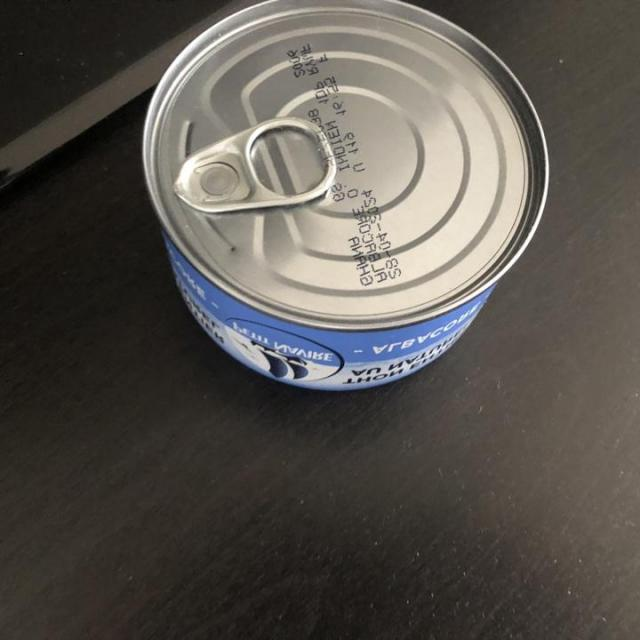metal: (139, 0, 552, 396)
